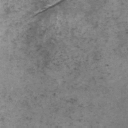finishing roll printing: (28, 0, 66, 19)
